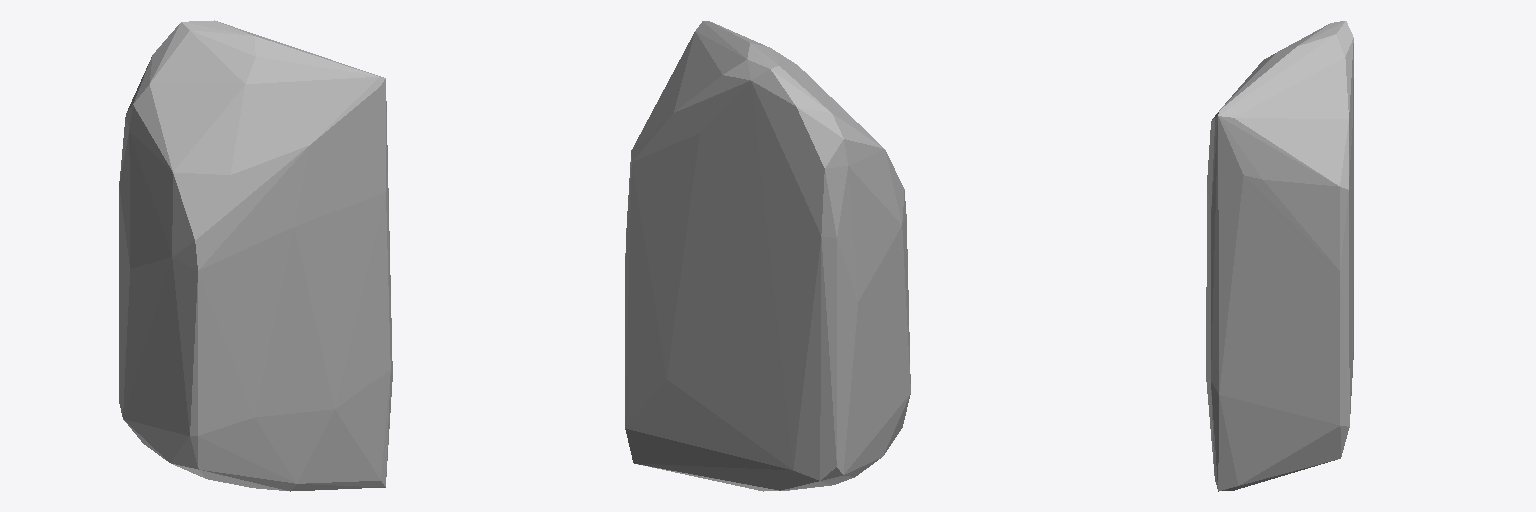
The robot description file, URDF, robot "root":
<robot name="root">
  <link name="link_rock26_convex_piece_0">
    <inertial>
      <origin rpy="0 0 0" xyz="0 0 0"/>
      <mass value="1.09E+06"/>
      <inertia ixx="1.35E+09" ixy="-2.59E+08" ixz="8.57E+07" iyy="2.30E+09" iyz="6.25E+08" izz="1.52E+09"/>
    </inertial>
    <visual>
      <origin rpy="0 0 0" xyz="0 0 0"/>
      <geometry>
        <mesh filename="rock26_convex_piece_0.obj" scale="1.0000E+00 1.0000E+00 1.0000E+00"/>
      </geometry>
      <material name="">
        <color rgba="7.50E-01 7.50E-01 7.50E-01 1"/>
      </material>
    </visual>
    <collision>
      <origin rpy="0 0 0" xyz="0 0 0"/>
      <geometry>
        <mesh filename="rock26_convex_piece_0.obj" scale="1.0000E+00 1.0000E+00 1.0000E+00"/>
      </geometry>
    </collision>
  </link>
</robot>

--- What the picture shows (computed from the rendered views, not written in the file) ---
3 views of the same robot in one strip: view 1: azimuth 30°, elevation 25°; view 2: azimuth 150°, elevation 25°; view 3: azimuth 270°, elevation 25° (orthographic).
Model root with 1 links and 0 joints (none), rooted at link_rock26_convex_piece_0, posed all joints at 0.
Visible links, largest first — view 1: link_rock26_convex_piece_0; view 2: link_rock26_convex_piece_0; view 3: link_rock26_convex_piece_0.
Link boxes in pixels (left/top/right/bottom): link_rock26_convex_piece_0: left=119, top=20, right=392, bottom=491; link_rock26_convex_piece_0: left=625, top=21, right=910, bottom=491; link_rock26_convex_piece_0: left=1206, top=21, right=1353, bottom=491.
Size in the robot's own frame: 102 by 67.65 by 207 metres.
Meshes: 1 distinct files referenced, 1 mesh visuals loaded (1 OBJ).